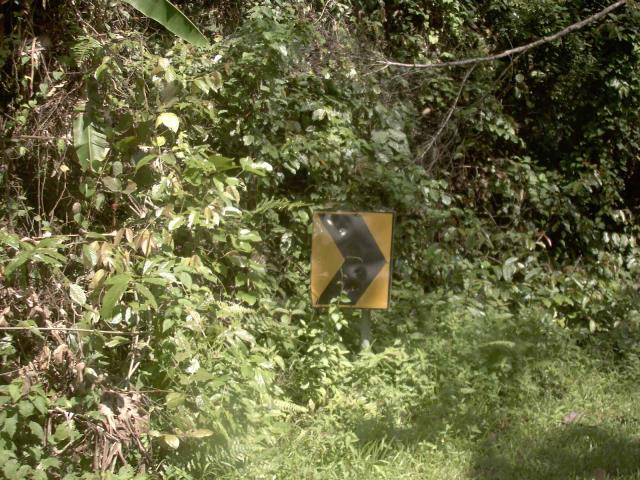traffic_sign: (295, 198, 405, 322)
